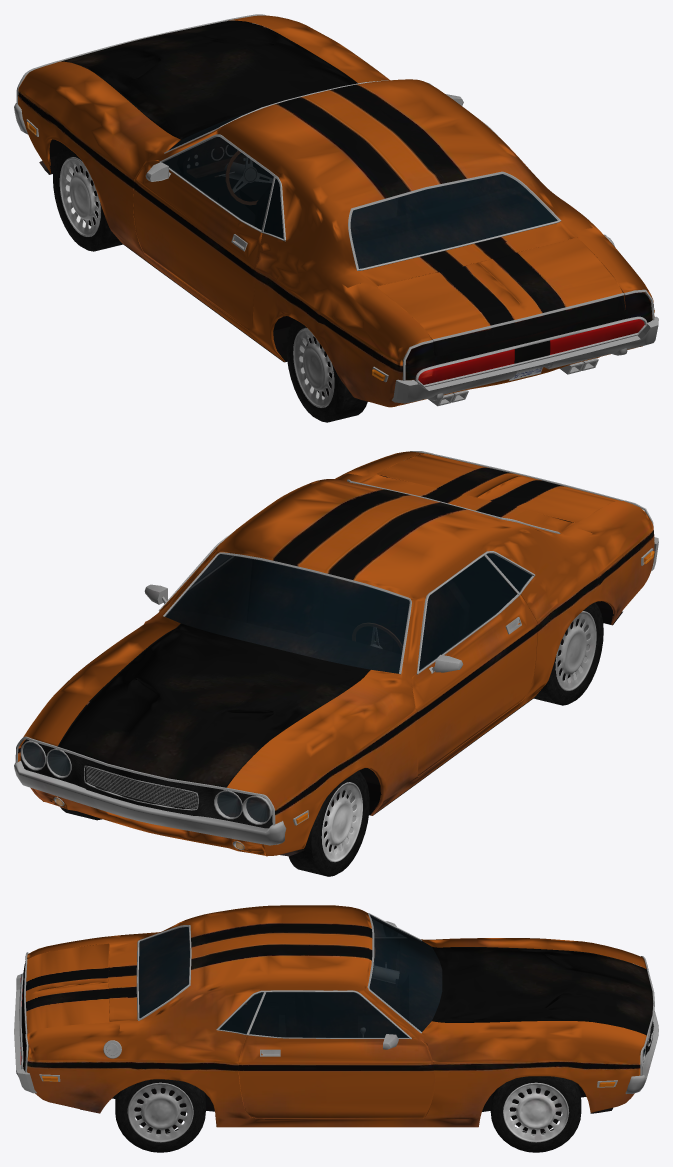
File: american-muscle-car-35d0e4.glb
3 renders of one model, top to bottom at view 1: azimuth 30°, elevation 25°; view 2: azimuth 150°, elevation 25°; view 3: azimuth 270°, elevation 25°, orthographic. The views are drawn at different scales.
Parts seen in each view (by area): view 1: body, wheel-front-right, wheel-back-right; view 2: body, wheel-back-right, wheel-front-right; view 3: body, wheel-back-left, wheel-front-left.
Boxes of the visible parts, x1,y1,x2,y2 form: body: [14, 14, 658, 407]; wheel-front-right: [286, 319, 367, 422]; wheel-back-right: [53, 145, 122, 251]; body: [14, 451, 658, 862]; wheel-back-right: [166, 770, 369, 876]; wheel-front-right: [534, 602, 603, 705]; body: [14, 905, 658, 1142]; wheel-back-left: [490, 1037, 650, 1152]; wheel-front-left: [115, 1079, 205, 1152].
Size of the model in its own units: 2.04 by 1.26 by 4.5.
8 materials, 8 textured.
